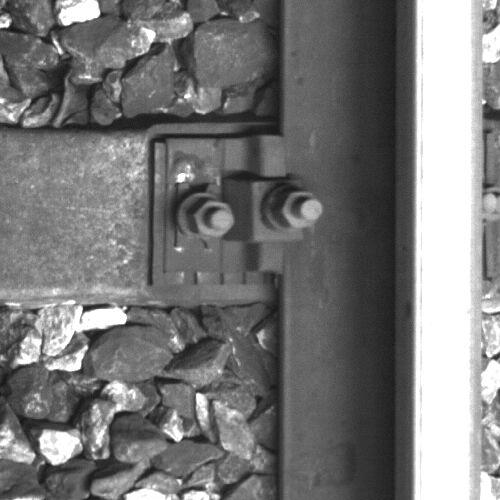kb: (165, 136, 328, 276)
nut: (272, 189, 324, 231), (187, 196, 235, 239)
rail: (415, 1, 483, 500)
tie_concr: (1, 129, 277, 290)
